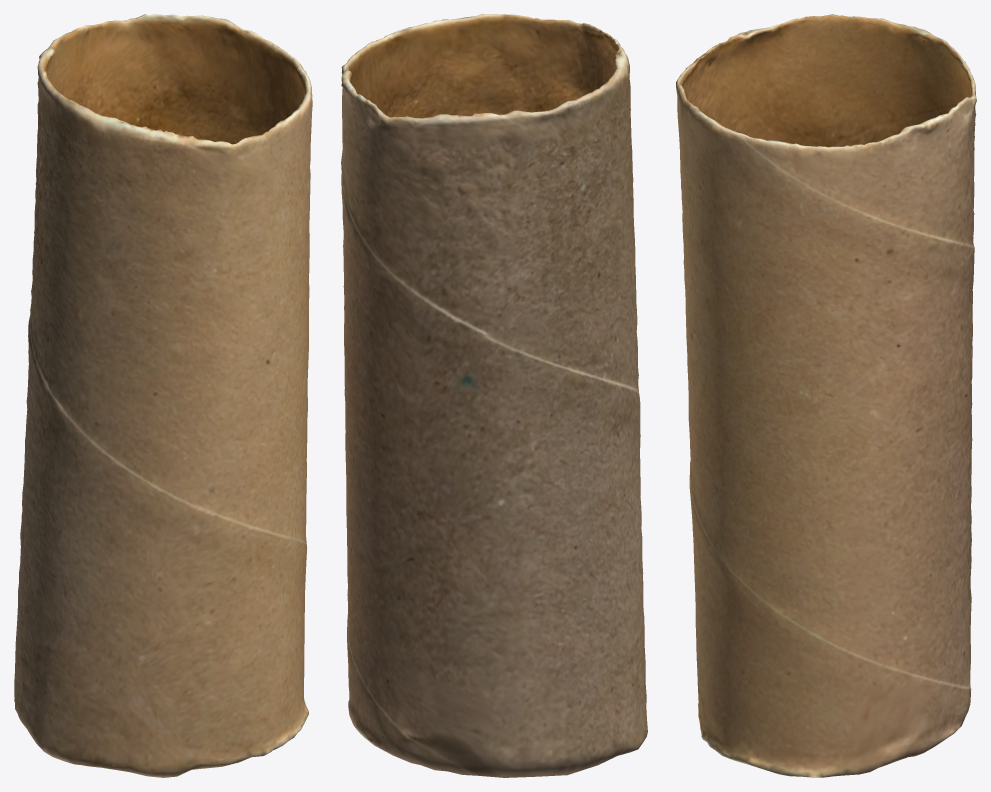
The model's file is 3DModel_LowPoly.obj.
The picture shows the model from 3 angles, left to right: view 1: azimuth 30°, elevation 25°; view 2: azimuth 150°, elevation 25°; view 3: azimuth 270°, elevation 25°; orthographic projection. The views are drawn at different scales.
Visible parts, largest first — view 1: 3DModel_LowPoly; view 2: 3DModel_LowPoly; view 3: 3DModel_LowPoly.
Boxes of the visible parts, x1=… form: 3DModel_LowPoly: x1=14, y1=14, x2=312, y2=777; 3DModel_LowPoly: x1=341, y1=14, x2=647, y2=777; 3DModel_LowPoly: x1=676, y1=14, x2=976, y2=777.
Size of the model in its own units: 0.0499 by 0.1205 by 0.0493.
Materials: 1 (1 with a texture image).
